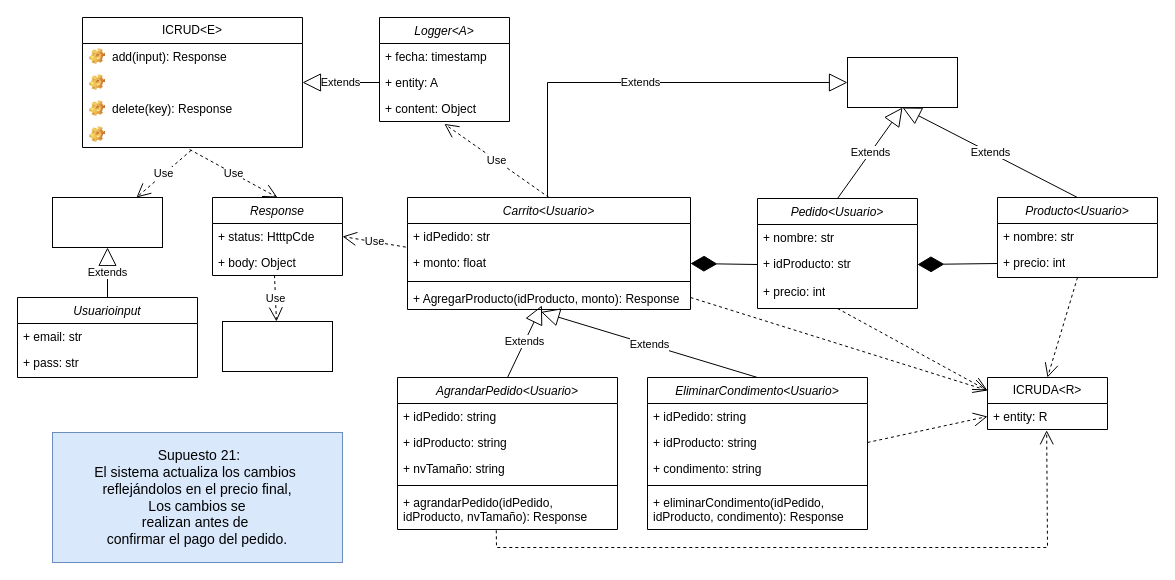
The diagram is 1175 pixels wide and 580 high, and some of its shapes have lost their labels. Each missing label, with the centre of its shape:
"HttpCode" belongs at pixel 277 346.
"query(key): Response" belongs at pixel 192 134.
"update(key, input): Response" belongs at pixel 192 82.
"«interface» ICRUD" belongs at pixel 902 82.
"«interface» input" belongs at pixel 107 222.
